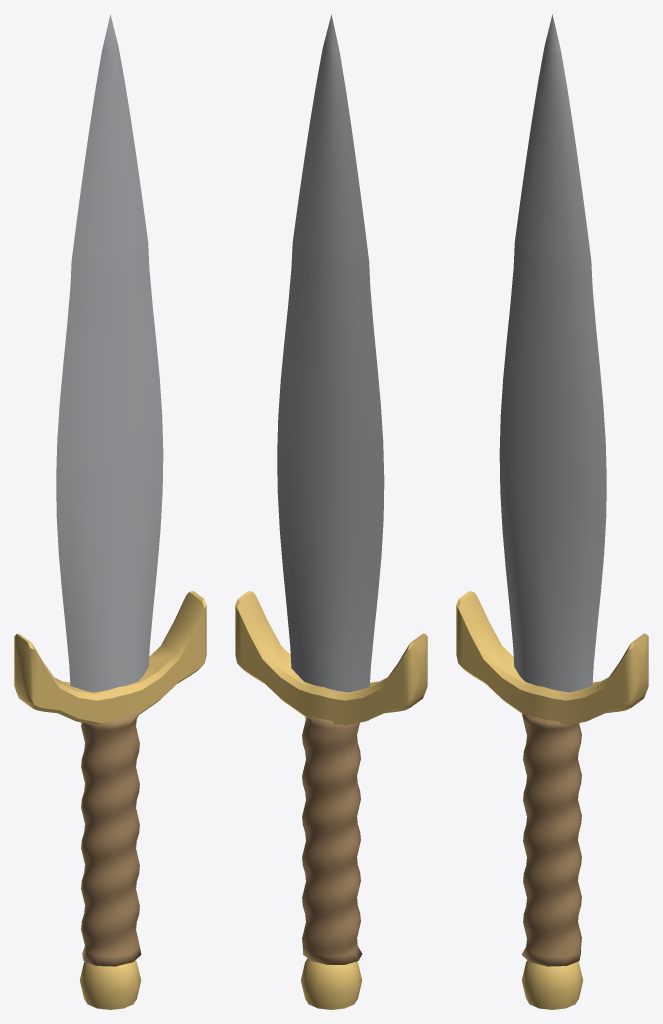
File: elven-leafblade.glb
The picture shows the model from 3 angles, left to right: view 1: azimuth 30°, elevation 25°; view 2: azimuth 150°, elevation 25°; view 3: azimuth 330°, elevation 25°; orthographic projection.
Visible parts, largest first — view 1: elven-leafblade; view 2: elven-leafblade; view 3: elven-leafblade.
Boxes of the visible parts, left/top/right/bottom form: elven-leafblade: left=14, top=14, right=206, bottom=1009; elven-leafblade: left=235, top=14, right=427, bottom=1009; elven-leafblade: left=456, top=14, right=648, bottom=1009.
Size of the model in its own units: 0.22 by 1.14 by 0.064.
